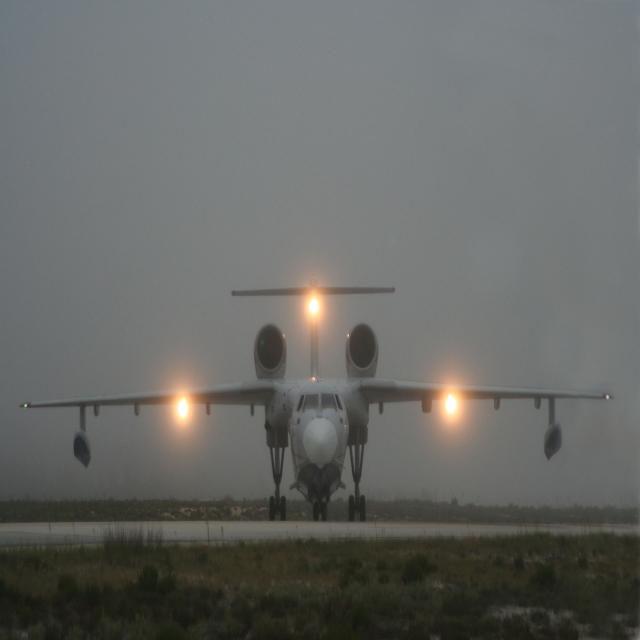MIL_Plane: (19, 270, 613, 520)
